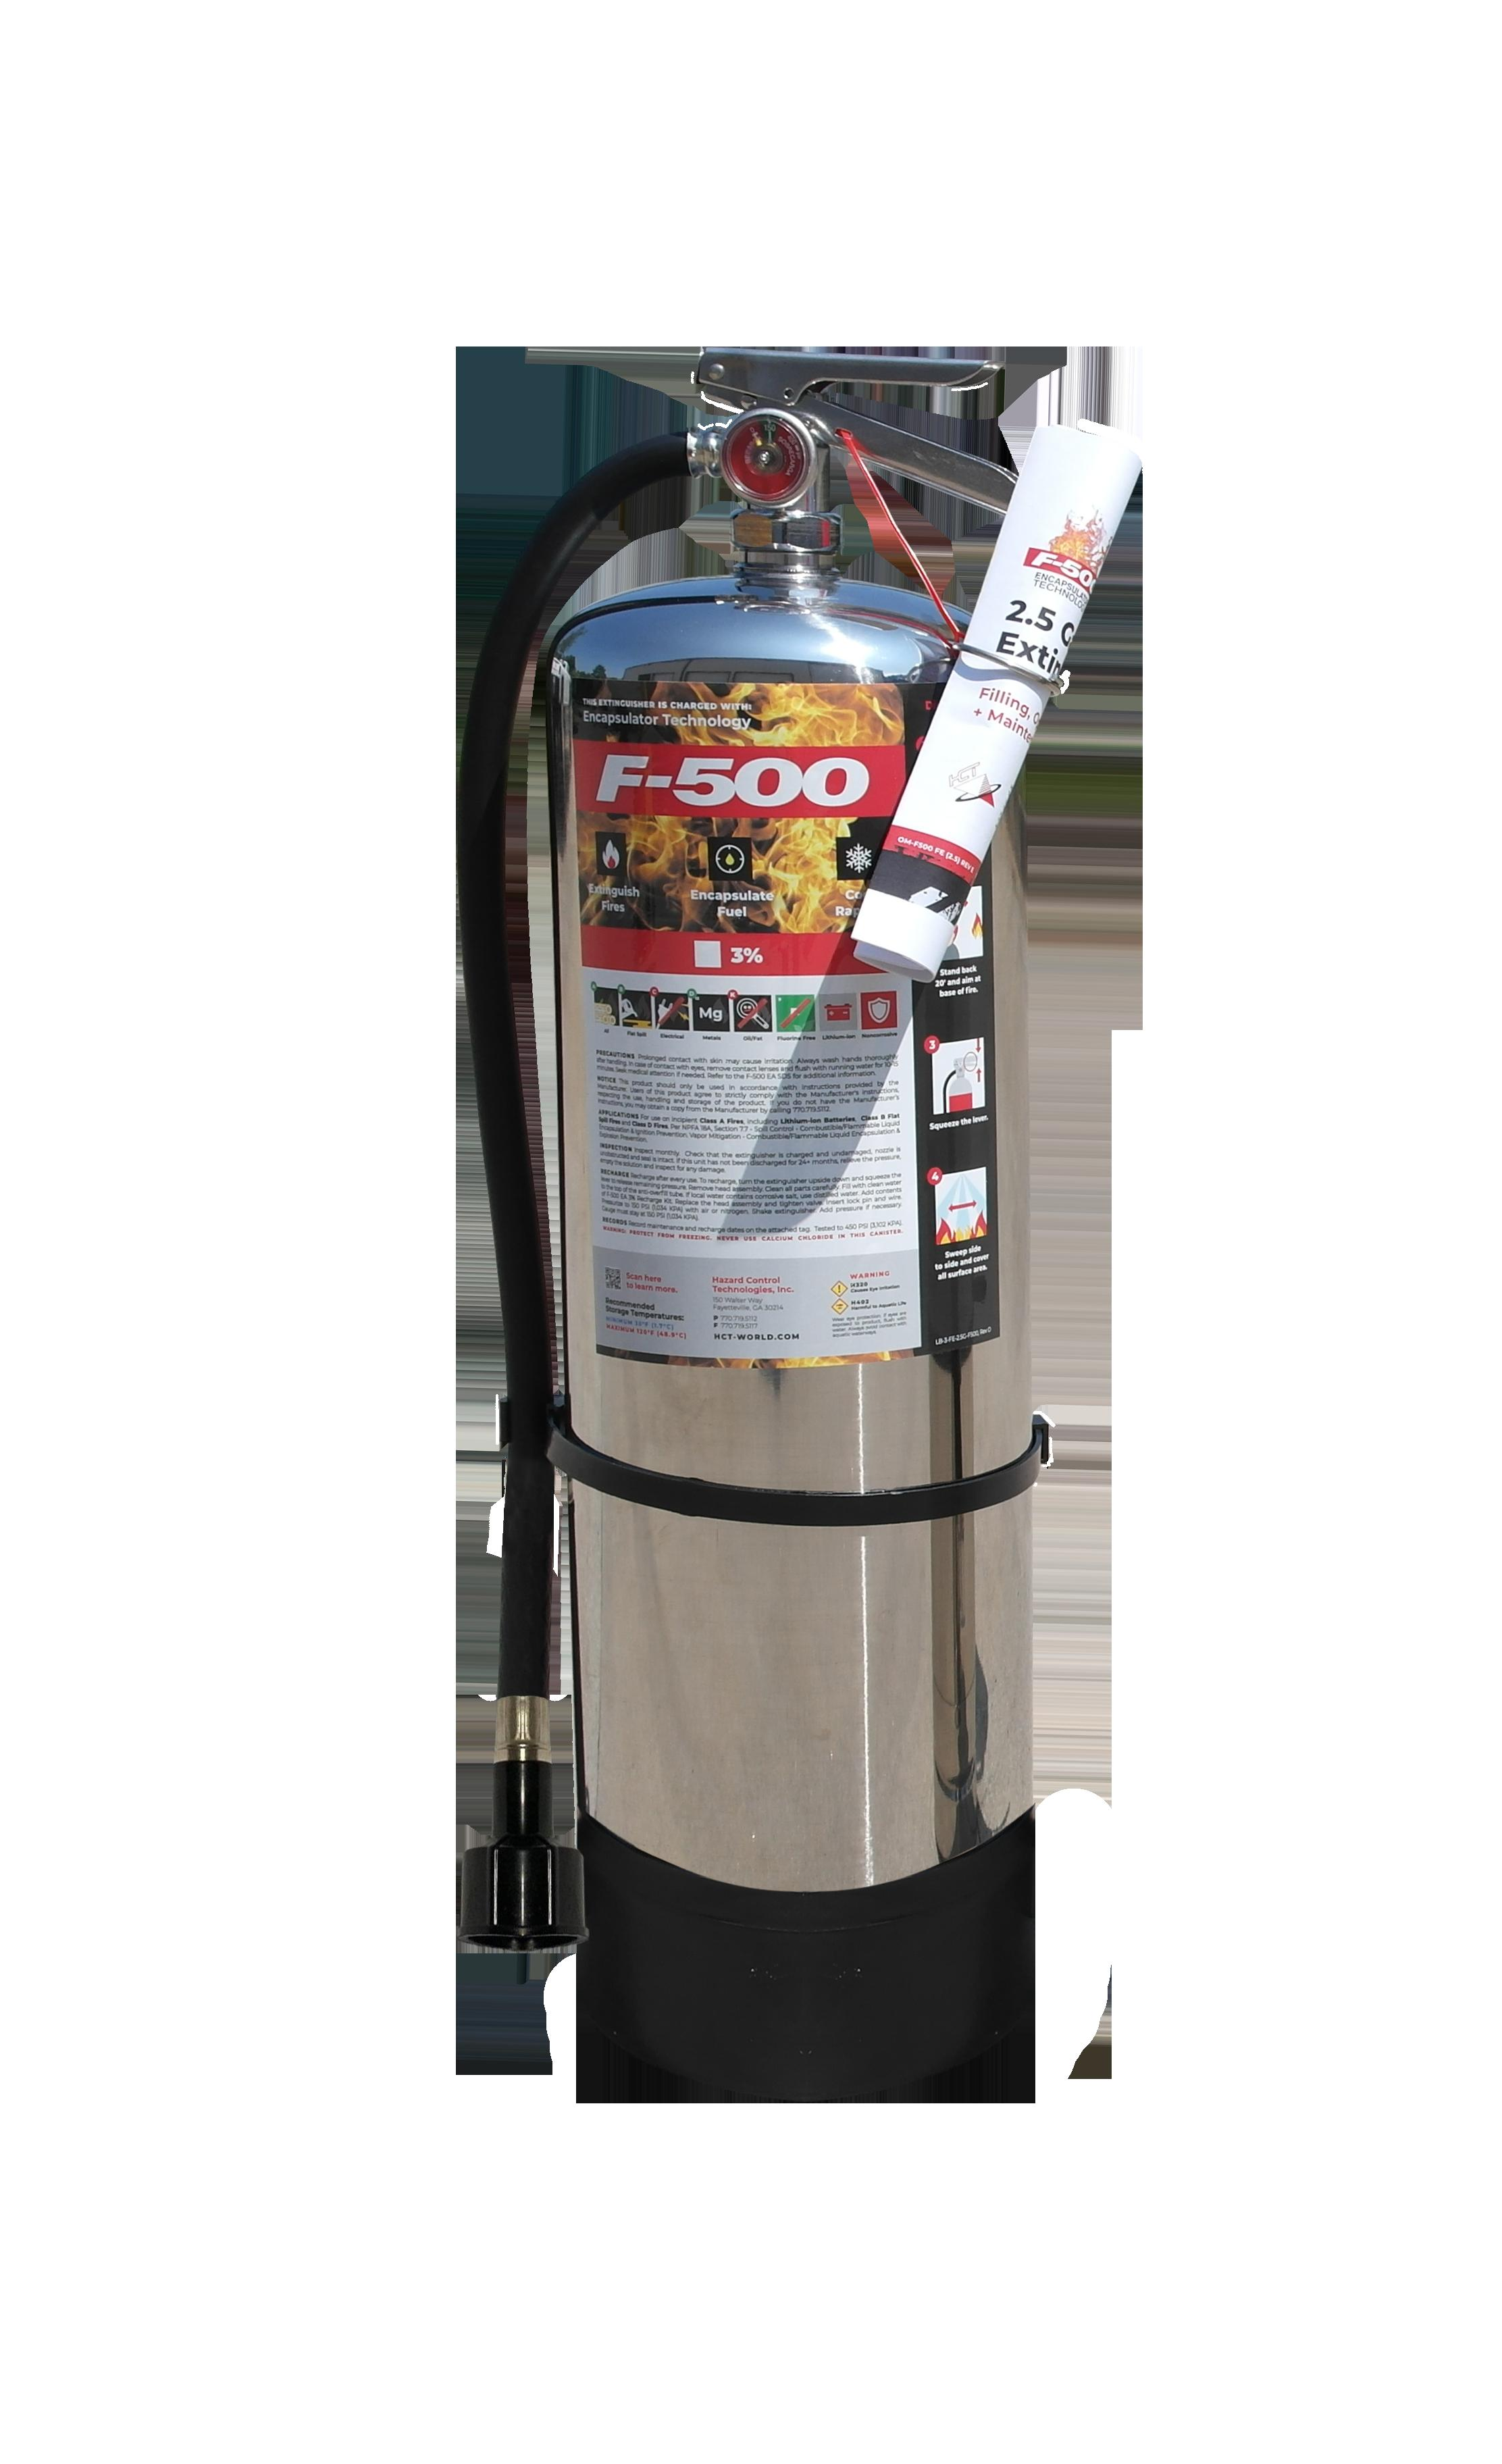Fire Extinguisher: (399, 264, 1175, 2182)
